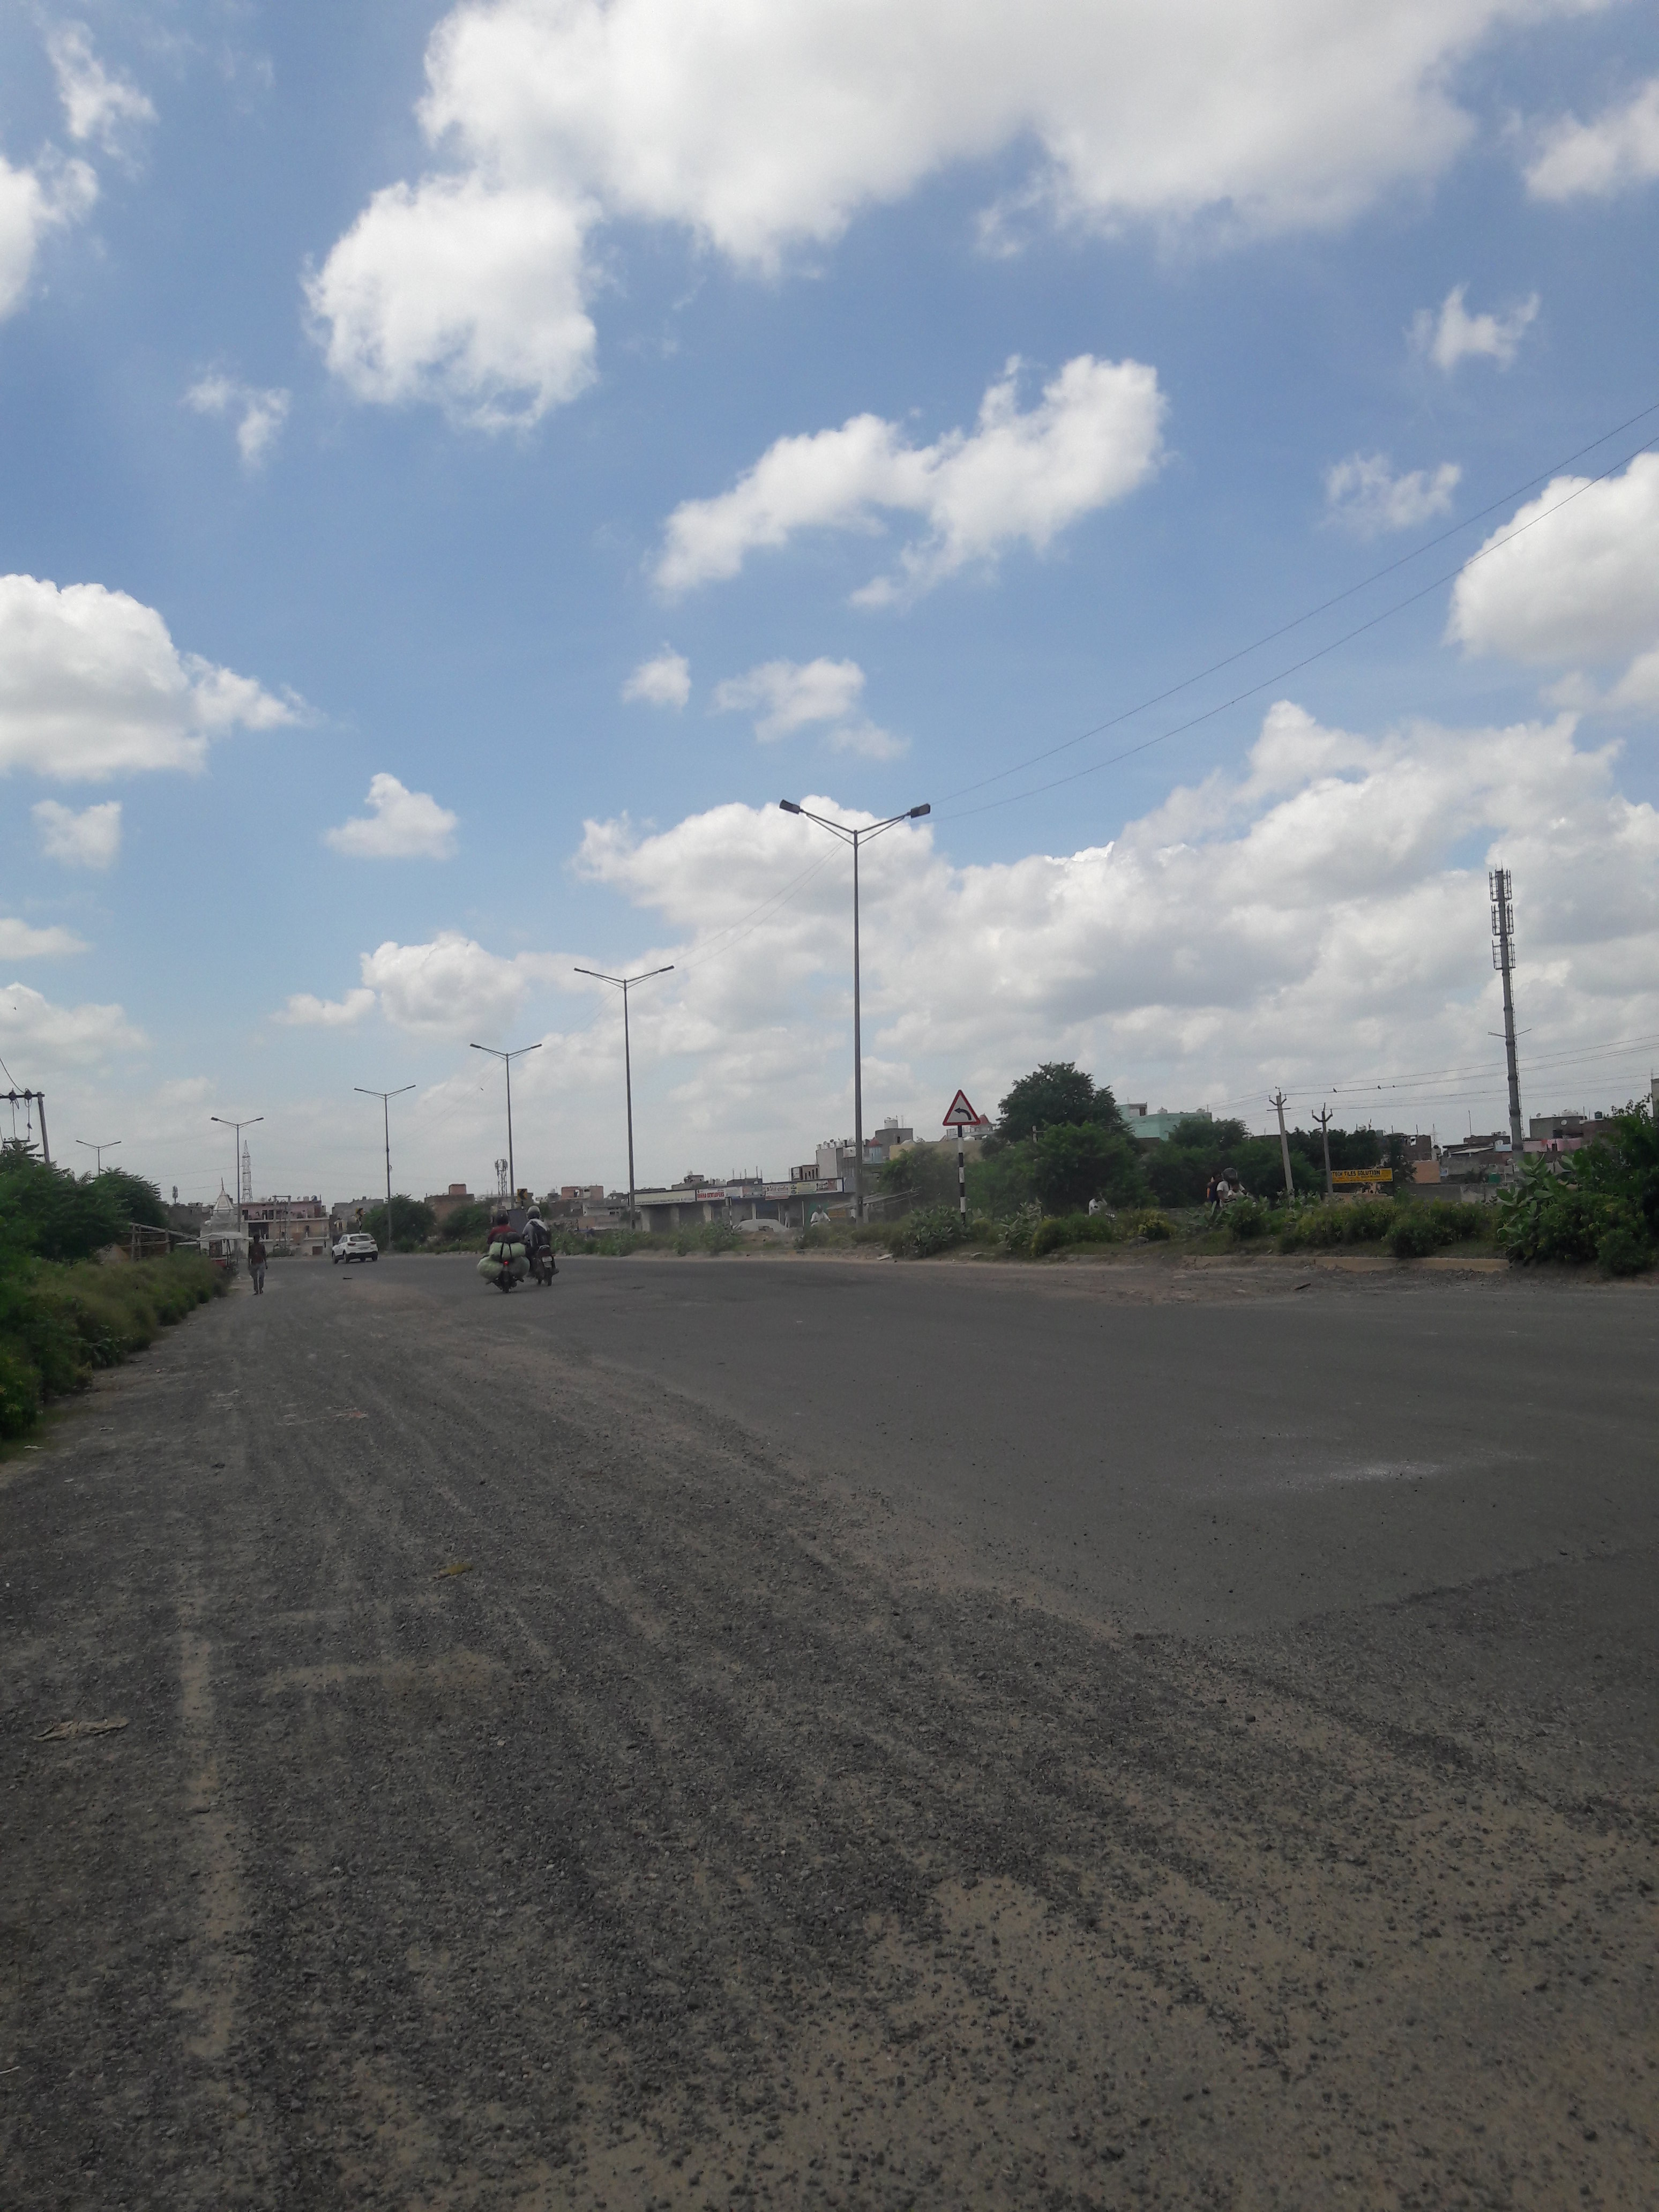traffic_sign: (943, 1089, 981, 1129)
